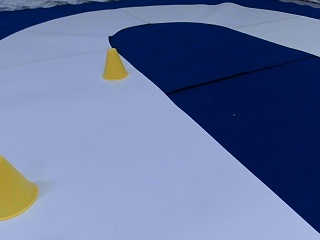cone: (0, 155, 38, 216), (101, 48, 126, 80)
